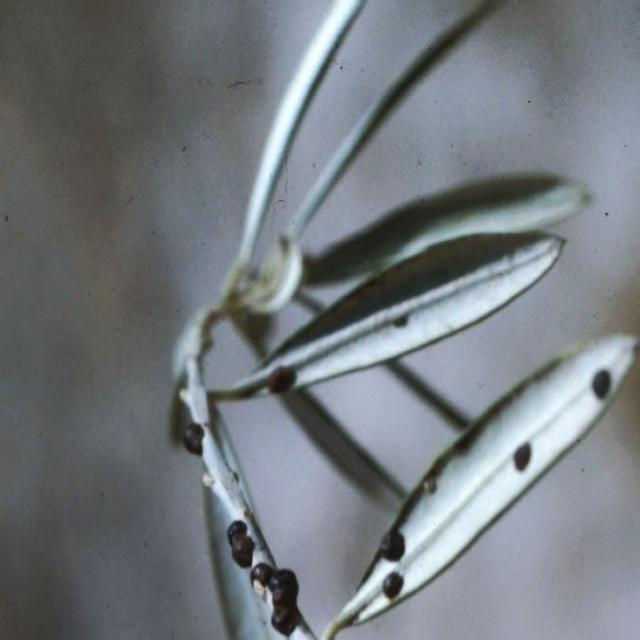BlackScale: (251, 560, 298, 636), (227, 520, 250, 568), (376, 530, 405, 562), (182, 428, 204, 456), (382, 571, 403, 600), (592, 372, 612, 401), (268, 371, 294, 393), (514, 442, 531, 472)
